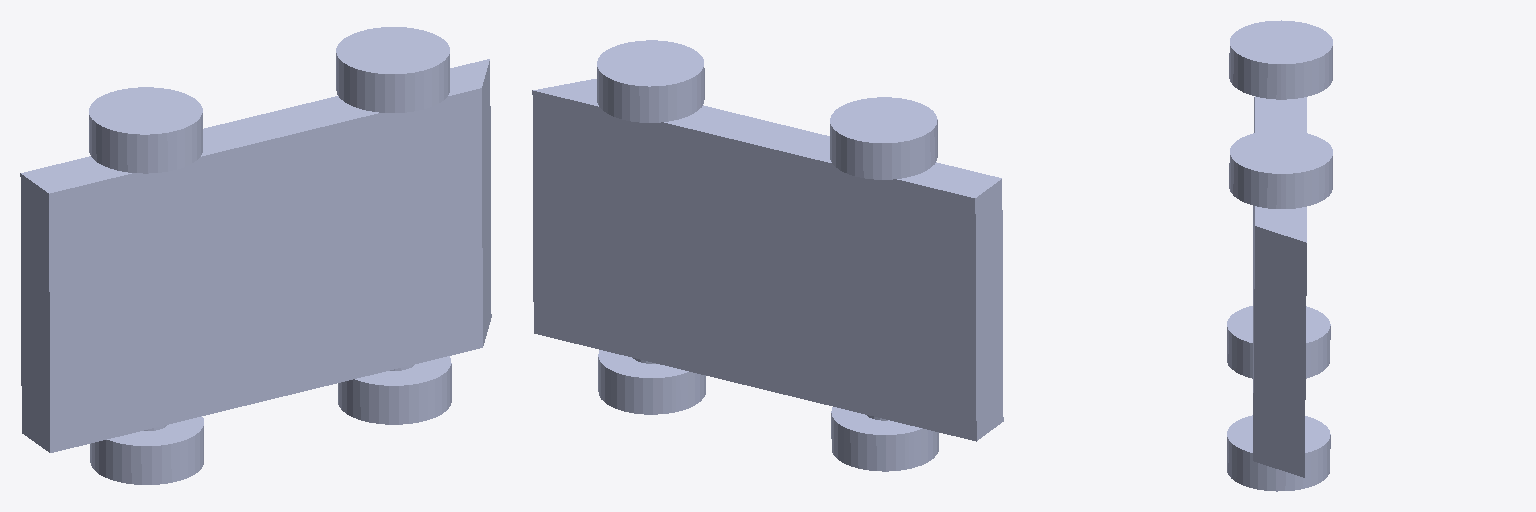
The robot description file, URDF, robot "refinebot":
<?xml version="1.0" encoding="utf-8"?>
<!-- This URDF was automatically created by SolidWorks to URDF Exporter! Originally created by [author] ([email redacted]) 
     Commit Version: 1.6.0-1-g15f4949  Build Version: 1.6.7594.29634
     For more information, please see http://wiki.ros.org/sw_urdf_exporter -->
<robot
  name="refinebot">
  <link
    name="chassis">
    <inertial>
      <origin
        xyz="-0.00124672984735278 0.432910880678776 -0.00229434822216398"
        rpy="0 0 0" />
      <mass
        value="45.4284133348976" />
      <inertia
        ixx="0.978097941440082"
        ixy="-0.00277854939075679"
        ixz="0.0154723204316408"
        iyy="3.32179827412401"
        iyz="0.00784791220302939"
        izz="4.21932891898083" />
    </inertial>
    <visual>
      <origin
        xyz="0 0 0"
        rpy="0 0 0" />
      <geometry>
        <mesh
          filename="package://refinebot/meshes/chassis.STL" />
      </geometry>
      <material
        name="">
        <color
          rgba="0.792156862745098 0.819607843137255 0.933333333333333 1" />
      </material>
    </visual>
    <collision>
      <origin
        xyz="0 0 0"
        rpy="0 0 0" />
      <geometry>
        <mesh
          filename="package://refinebot/meshes/chassis.STL" />
      </geometry>
    </collision>
  </link>
  <link
    name="front_right">
    <inertial>
      <origin
        xyz="5.55111512312578E-17 5.55111512312578E-17 0.0602099562076604"
        rpy="0 0 0" />
      <mass
        value="3.10819434753196" />
      <inertia
        ixx="0.0147424171546651"
        ixy="8.67361737988404E-19"
        ixz="5.55653613398821E-19"
        iyy="0.0147424171546651"
        iyz="-5.6920614055489E-19"
        izz="0.0132164942122196" />
    </inertial>
    <visual>
      <origin
        xyz="0 0 0"
        rpy="0 0 0" />
      <geometry>
        <mesh
          filename="package://refinebot/meshes/front_right.STL" />
      </geometry>
      <material
        name="">
        <color
          rgba="0.792156862745098 0.819607843137255 0.933333333333333 1" />
      </material>
    </visual>
    <collision>
      <origin
        xyz="0 0 0"
        rpy="0 0 0" />
      <geometry>
        <mesh
          filename="package://refinebot/meshes/front_right.STL" />
      </geometry>
    </collision>
  </link>
  <joint
    name="first_joint"
    type="continuous">
    <origin
      xyz="0.27216 -0.001427 0.090488"
      rpy="0.0072906 0.0047961 2.5597" />
    <parent
      link="chassis" />
    <child
      link="front_right" />
    <axis
      xyz="0 0 1" />
  </joint>
  <link
    name="front_left">
    <inertial>
      <origin
        xyz="0 6.02382727032946E-16 -0.155657161176605"
        rpy="0 0 0" />
      <mass
        value="3.10819434753196" />
      <inertia
        ixx="0.0147424171546651"
        ixy="-4.88991683891151E-21"
        ixz="1.02128415536314E-18"
        iyy="0.0147424171546651"
        iyz="5.84791546784369E-18"
        izz="0.0132164942122196" />
    </inertial>
    <visual>
      <origin
        xyz="0 0 0"
        rpy="0 0 0" />
      <geometry>
        <mesh
          filename="package://refinebot/meshes/front_left.STL" />
      </geometry>
      <material
        name="">
        <color
          rgba="0.792156862745098 0.819607843137255 0.933333333333333 1" />
      </material>
    </visual>
    <collision>
      <origin
        xyz="0 0 0"
        rpy="0 0 0" />
      <geometry>
        <mesh
          filename="package://refinebot/meshes/front_left.STL" />
      </geometry>
    </collision>
  </link>
  <joint
    name="second_joint"
    type="continuous">
    <origin
      xyz="0.27216 0.0026736 0.56037"
      rpy="3.1329 0 0" />
    <parent
      link="chassis" />
    <child
      link="front_left" />
    <axis
      xyz="0 0 1" />
  </joint>
  <link
    name="rear_right">
    <inertial>
      <origin
        xyz="-1.38777878078145E-16 0 0.0602099562076604"
        rpy="0 0 0" />
      <mass
        value="3.10819434753196" />
      <inertia
        ixx="0.0147424171546651"
        ixy="3.03576608295941E-18"
        ixz="5.55653613398821E-19"
        iyy="0.0147424171546651"
        iyz="-5.01443504774546E-19"
        izz="0.0132164942122196" />
    </inertial>
    <visual>
      <origin
        xyz="0 0 0"
        rpy="0 0 0" />
      <geometry>
        <mesh
          filename="package://refinebot/meshes/rear_right.STL" />
      </geometry>
      <material
        name="">
        <color
          rgba="0.792156862745098 0.819607843137255 0.933333333333333 1" />
      </material>
    </visual>
    <collision>
      <origin
        xyz="0 0 0"
        rpy="0 0 0" />
      <geometry>
        <mesh
          filename="package://refinebot/meshes/rear_right.STL" />
      </geometry>
    </collision>
  </link>
  <joint
    name="third_joint"
    type="continuous">
    <origin
      xyz="-0.23584 -0.001427 0.090488"
      rpy="0.0072906 0.0047961 2.5597" />
    <parent
      link="chassis" />
    <child
      link="rear_right" />
    <axis
      xyz="0 0 1" />
  </joint>
  <link
    name="rear_left">
    <inertial>
      <origin
        xyz="2.77555756156289E-17 6.37077196552482E-16 -0.155657161176605"
        rpy="0 0 0" />
      <mass
        value="3.10819434753196" />
      <inertia
        ixx="0.0147424171546651"
        ixy="-4.88991683891151E-21"
        ixz="1.02128415536314E-18"
        iyy="0.0147424171546651"
        iyz="5.84791546784369E-18"
        izz="0.0132164942122196" />
    </inertial>
    <visual>
      <origin
        xyz="0 0 0"
        rpy="0 0 0" />
      <geometry>
        <mesh
          filename="package://refinebot/meshes/rear_left.STL" />
      </geometry>
      <material
        name="">
        <color
          rgba="0.792156862745098 0.819607843137255 0.933333333333333 1" />
      </material>
    </visual>
    <collision>
      <origin
        xyz="0 0 0"
        rpy="0 0 0" />
      <geometry>
        <mesh
          filename="package://refinebot/meshes/rear_left.STL" />
      </geometry>
    </collision>
  </link>
  <joint
    name="fourth_joint"
    type="continuous">
    <origin
      xyz="-0.23584 0.0026736 0.56037"
      rpy="3.1329 0 0" />
    <parent
      link="chassis" />
    <child
      link="rear_left" />
    <axis
      xyz="0 0 1" />
  </joint>
  <link
    name="dummy">
  </link>
  <joint
    name="dummy_joint"
    type="fixed">
    <parent
    link="dummy" />
    <child
    link="chassis" />
  </joint>
  <transmission name="right_trans">
    <type>transmission_interface/SimpleTransmission</type>
    <joint name="third_joint">
      <hardwareInterface>VelocityJointInterface</hardwareInterface>
    </joint>
    <actuator name="right_motor">
      <mechanicalReduction>50</mechanicalReduction>
      <hardwareInterface>VelocityJointInterface</hardwareInterface>
    </actuator>
  </transmission>
  <transmission name="left_trans">
    <type>transmission_interface/SimpleTransmission</type>
    <joint name="fourth_joint">
      <hardwareInterface>VelocityJointInterface</hardwareInterface>
    </joint>
    <actuator name="left_motor">
      <mechanicalReduction>50</mechanicalReduction>
      <hardwareInterface>VelocityJointInterface</hardwareInterface>
    </actuator>
  </transmission>
</robot>

--- What the picture shows (computed from the rendered views, not written in the file) ---
The picture shows the robot from 3 angles, left to right: view 1: azimuth 30°, elevation 25°; view 2: azimuth 150°, elevation 25°; view 3: azimuth 270°, elevation 25°; orthographic projection.
Model refinebot with 6 links and 5 joints (4 continuous, 1 fixed), rooted at dummy, posed every joint at zero.
Links seen in each view (by area): view 1: chassis, rear_left, front_left, front_right, rear_right; view 2: chassis, rear_left, front_left, front_right, rear_right; view 3: chassis, front_left, rear_left, front_right, rear_right.
Link boxes in pixels (box(x1,y1,x2,y2)): chassis: box(20, 59, 491, 452); rear_left: box(89, 87, 202, 173); front_left: box(336, 27, 449, 112); front_right: box(338, 356, 451, 424); rear_right: box(90, 416, 203, 484); chassis: box(532, 79, 1003, 441); rear_left: box(830, 97, 937, 179); front_left: box(597, 40, 704, 122); front_right: box(598, 350, 705, 414); rear_right: box(831, 407, 938, 471); chassis: box(1253, 96, 1306, 477); front_left: box(1229, 130, 1332, 208); rear_left: box(1229, 20, 1332, 99); front_right: box(1227, 415, 1330, 491); rear_right: box(1227, 306, 1330, 378).
Bounding box of the posed robot: 0.9652 × 0.2087 × 0.6875 m (x, y, z).
Meshes: 5 distinct files referenced, 5 mesh visuals loaded (5 binary STL).